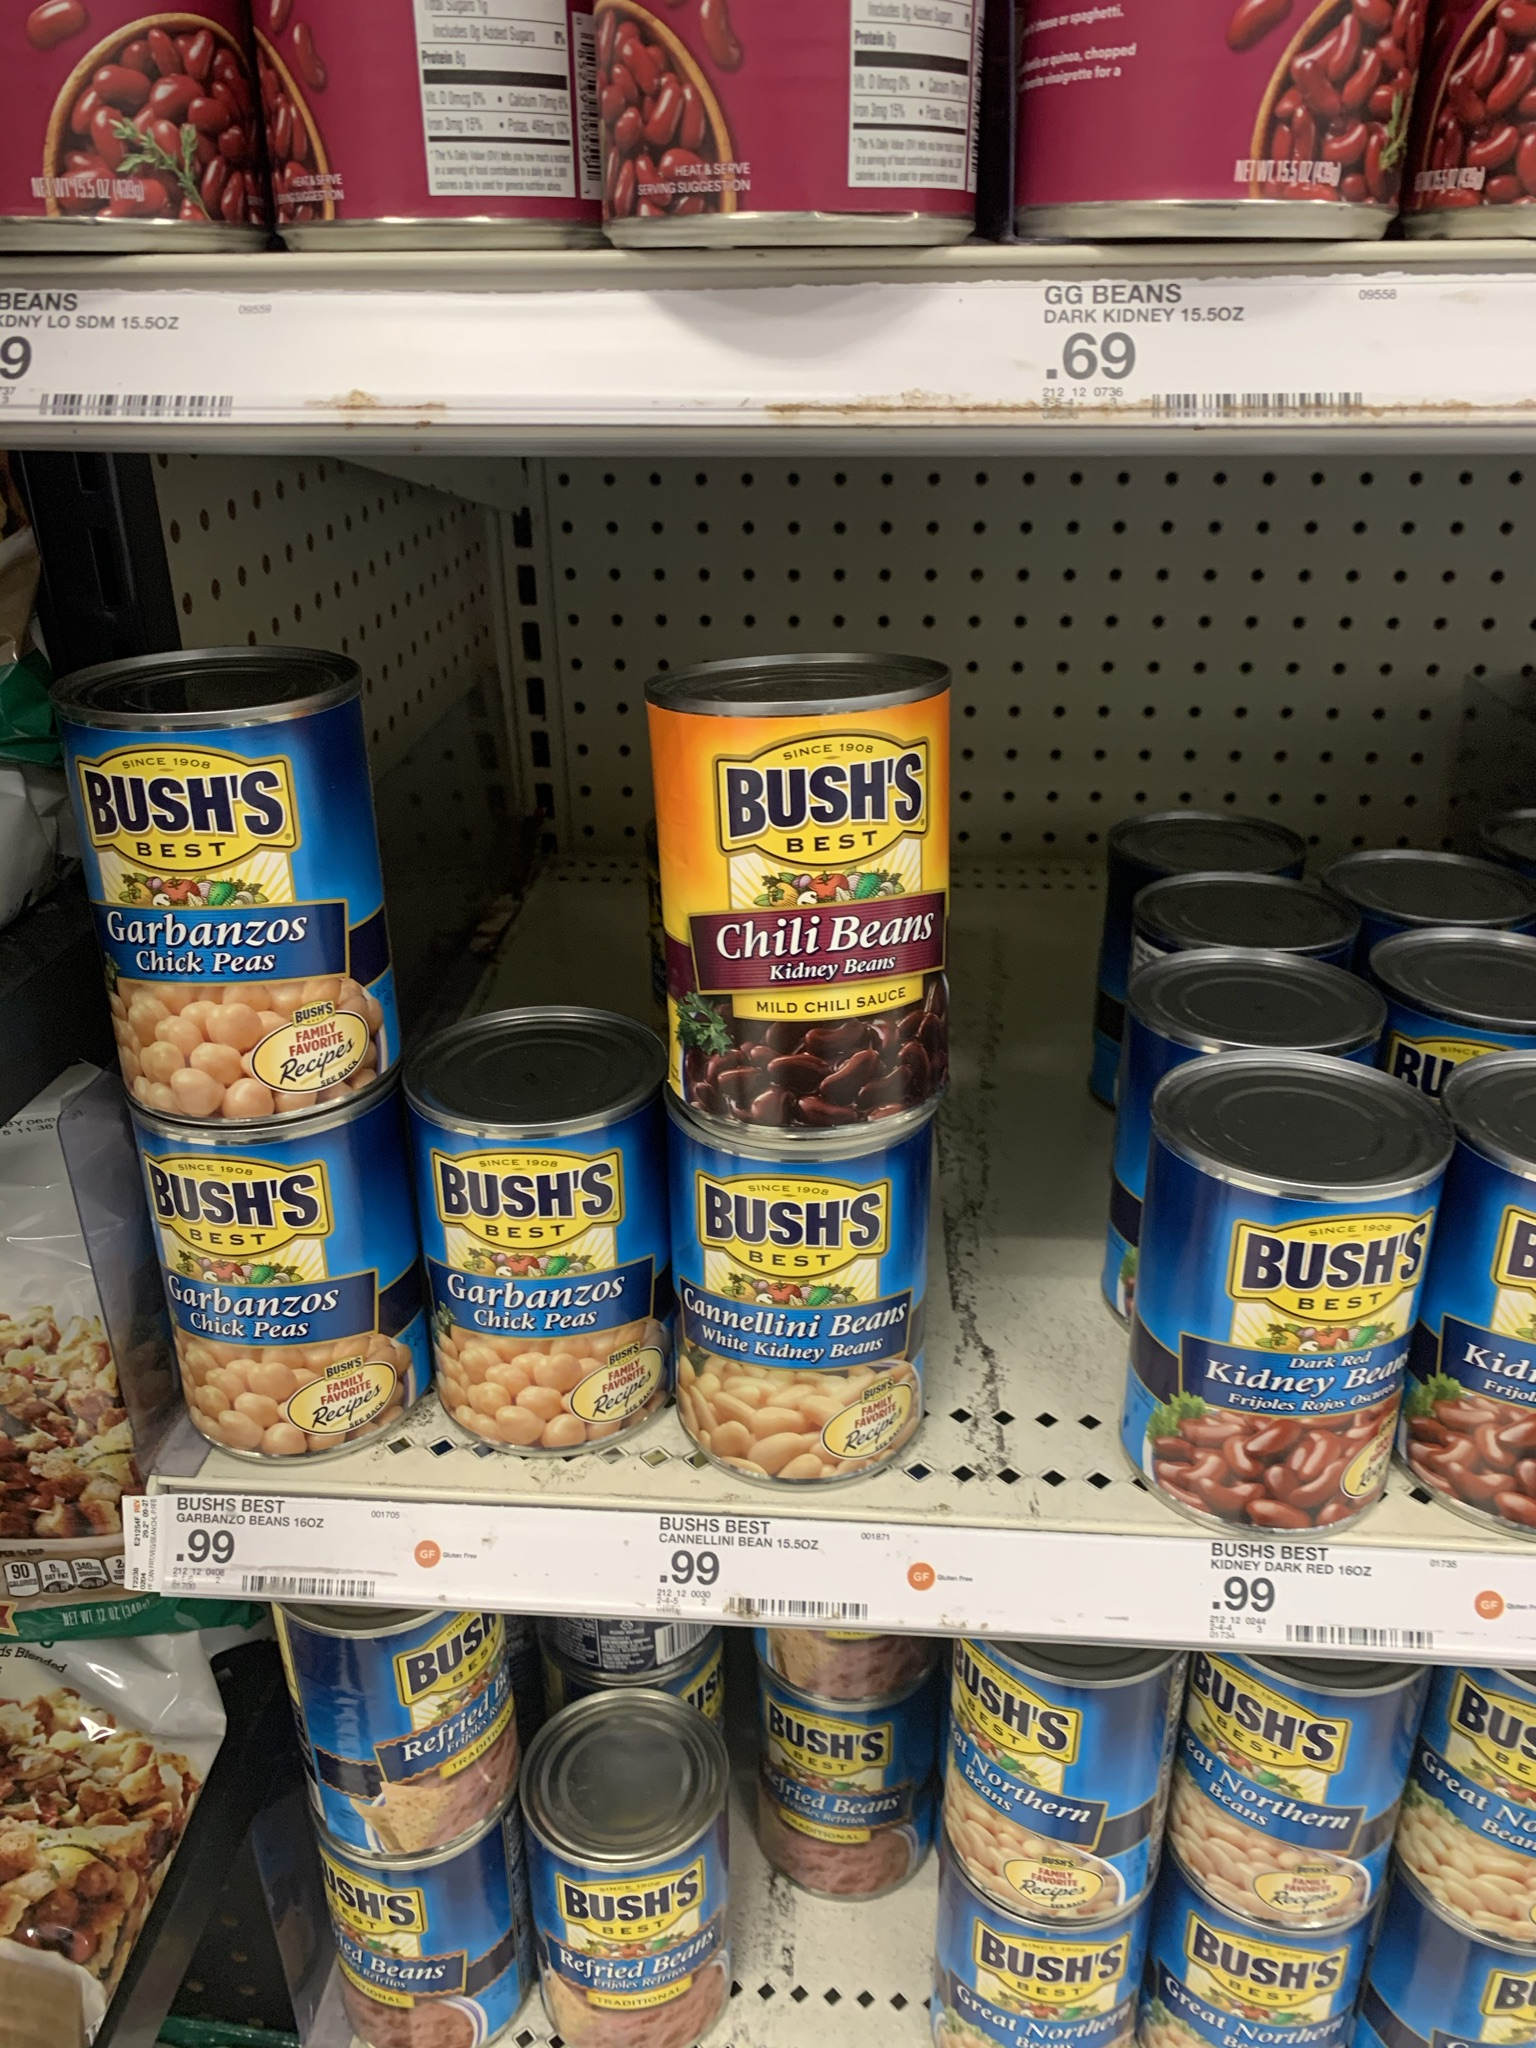can: (666, 679, 945, 1097), (115, 698, 382, 1093), (1167, 1122, 1407, 1505), (440, 1068, 644, 1435), (686, 1142, 918, 1435), (190, 1129, 399, 1432), (960, 1658, 1176, 1880), (549, 1761, 712, 2042), (295, 1621, 497, 1829), (1217, 1666, 1384, 1896), (765, 1640, 928, 1871), (326, 1866, 511, 2025), (958, 1908, 1133, 2048), (1173, 1921, 1354, 2048)
